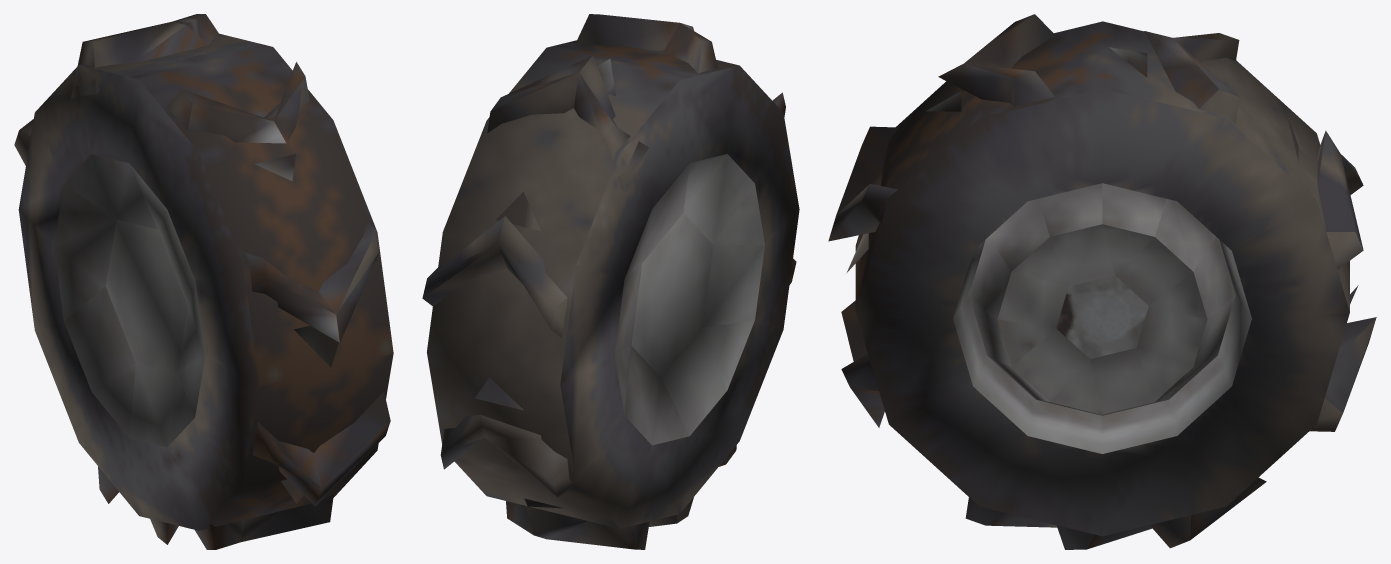
The model's file is tyre-v3.glb.
3 views of the same model, side by side, from view 1: azimuth 30°, elevation 25°; view 2: azimuth 150°, elevation 25°; view 3: azimuth 270°, elevation 25° (orthographic). The views are drawn at different scales.
Visible parts, largest first — view 1: tyre; view 2: tyre; view 3: tyre.
Part boxes in pixels (x1,y1,x2,y2): tyre: (14,14,393,549); tyre: (422,14,799,549); tyre: (828,14,1376,549).
Size of the model in its own units: 0.545 by 1.61 by 1.61.
Materials: 1 (1 with a texture image).
